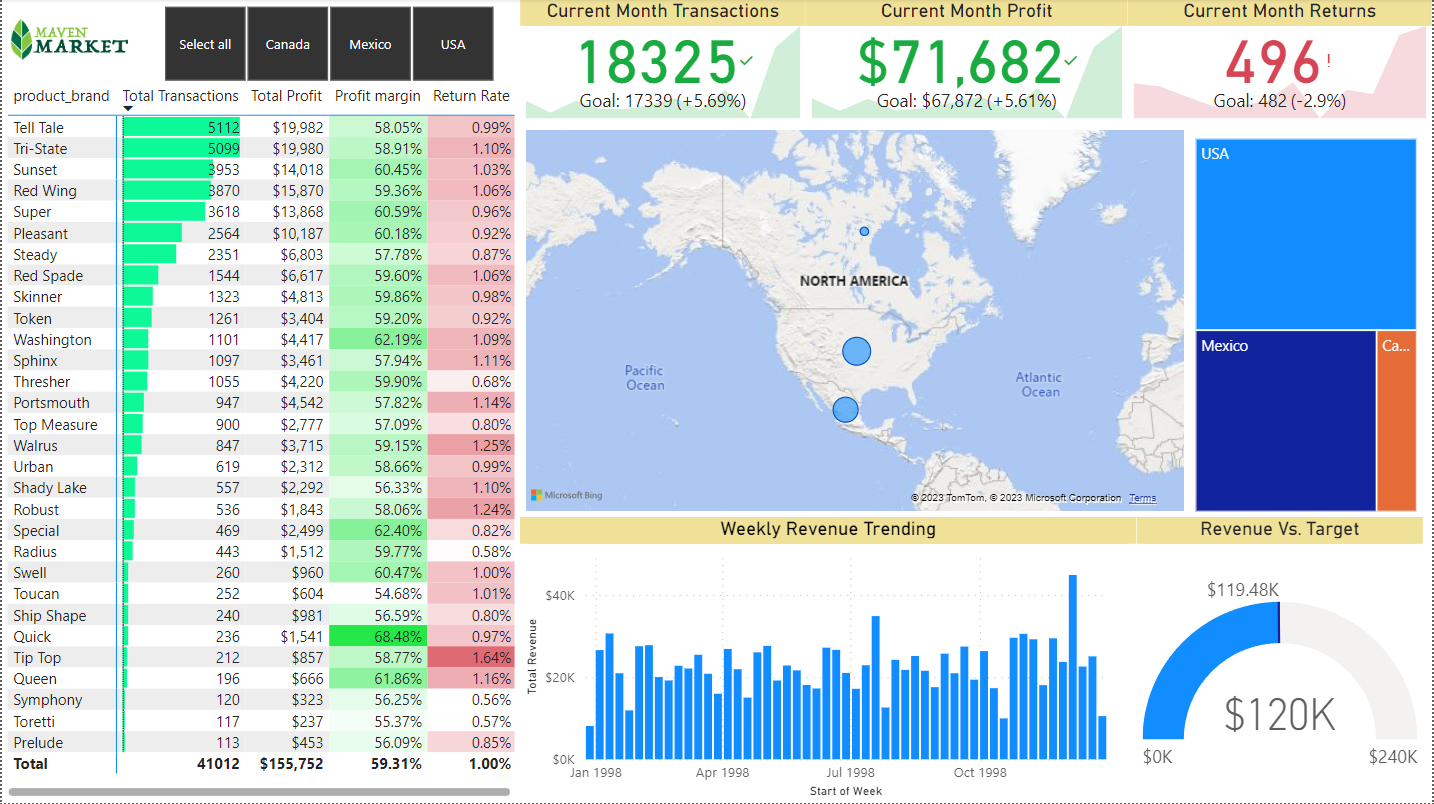

The dashboard page shown, as its layout file describes it:
{"tool":"powerbi","page":{"name":"Topline Performance","canvas":[1280,720],"ordinal":0},"visuals":[{"type":"pivotTable","fields":{"Rows":["Products.product_brand"],"Values":["Transaction_Data.Total Orders","Transaction_Data.Total Profit","Transaction_Data.Profit margin","Returns.Return Rate"]},"box":[0,72,464,648],"z":0},{"type":"image","box":[0,0,120,72],"z":1000},{"type":"kpi","title":"Current Month Transactions","fields":{"Goal":["Transaction_Data.Last Month Transactions"],"Indicator":["Transaction_Data.Total Transactions"],"TrendLine":["Calendar.Start of Month"]},"box":[464,0,256,112],"z":2000},{"type":"kpi","title":"Current Month Profit","fields":{"TrendLine":["Calendar.Start of Month"],"Indicator":["Transaction_Data.Total Profit"],"Goal":["Transaction_Data.Last Month Profit"]},"box":[720,0,288,112],"z":3000},{"type":"kpi","title":"Current Month Returns","fields":{"TrendLine":["Calendar.Start of Month"],"Indicator":["Returns.Total Returns"],"Goal":["Returns.Last Month Returns"]},"box":[1008,0,272,112],"z":4000},{"type":"map","fields":{"Category":["Stores.store_country","Stores.store_state","Stores.store_city"],"Size":["Transaction_Data.Total Transactions"]},"box":[464,112,600,352],"z":5000},{"type":"slicer","fields":{"Values":["Stores.store_country"]},"box":[120,0,344,80],"z":6000},{"type":"treemap","fields":{"Values":["Transaction_Data.Total Transactions"],"Group":["Stores.store_country","Stores.store_state","Stores.store_city"]},"box":[1064,120,208,344],"z":7000},{"type":"columnChart","title":"Weekly Revenue Trending","fields":{"Category":["Calendar.Start of Week"],"Y":["Transaction_Data.Total Revenue"]},"box":[464,464,552,256],"z":8000},{"type":"gauge","title":"Revenue Vs. Target","fields":{"Y":["Transaction_Data.Total Revenue"],"TargetValue":["Transaction_Data.Revenue Target"]},"box":[1016,464,256,256],"z":9000}]}

Visuals, with their boxes in screenshot pixels (x1, y1, x2, y2), scaled from the page's 1280x720 canvas onto the 1434x804 screenshot:
pivotTable - Products.product_brand x Transaction_Data.Total Orders: select_region(0, 80, 520, 803)
image: select_region(0, 0, 134, 80)
"Current Month Transactions" kpi: select_region(520, 0, 807, 125)
"Current Month Profit" kpi: select_region(807, 0, 1129, 125)
"Current Month Returns" kpi: select_region(1129, 0, 1433, 125)
map - Stores.store_country x Stores.store_state: select_region(520, 125, 1192, 518)
slicer - Stores.store_country: select_region(134, 0, 520, 89)
treemap - Transaction_Data.Total Transactions x Stores.store_country: select_region(1192, 134, 1425, 518)
"Weekly Revenue Trending" columnChart: select_region(520, 518, 1138, 803)
"Revenue Vs. Target" gauge: select_region(1138, 518, 1425, 803)
